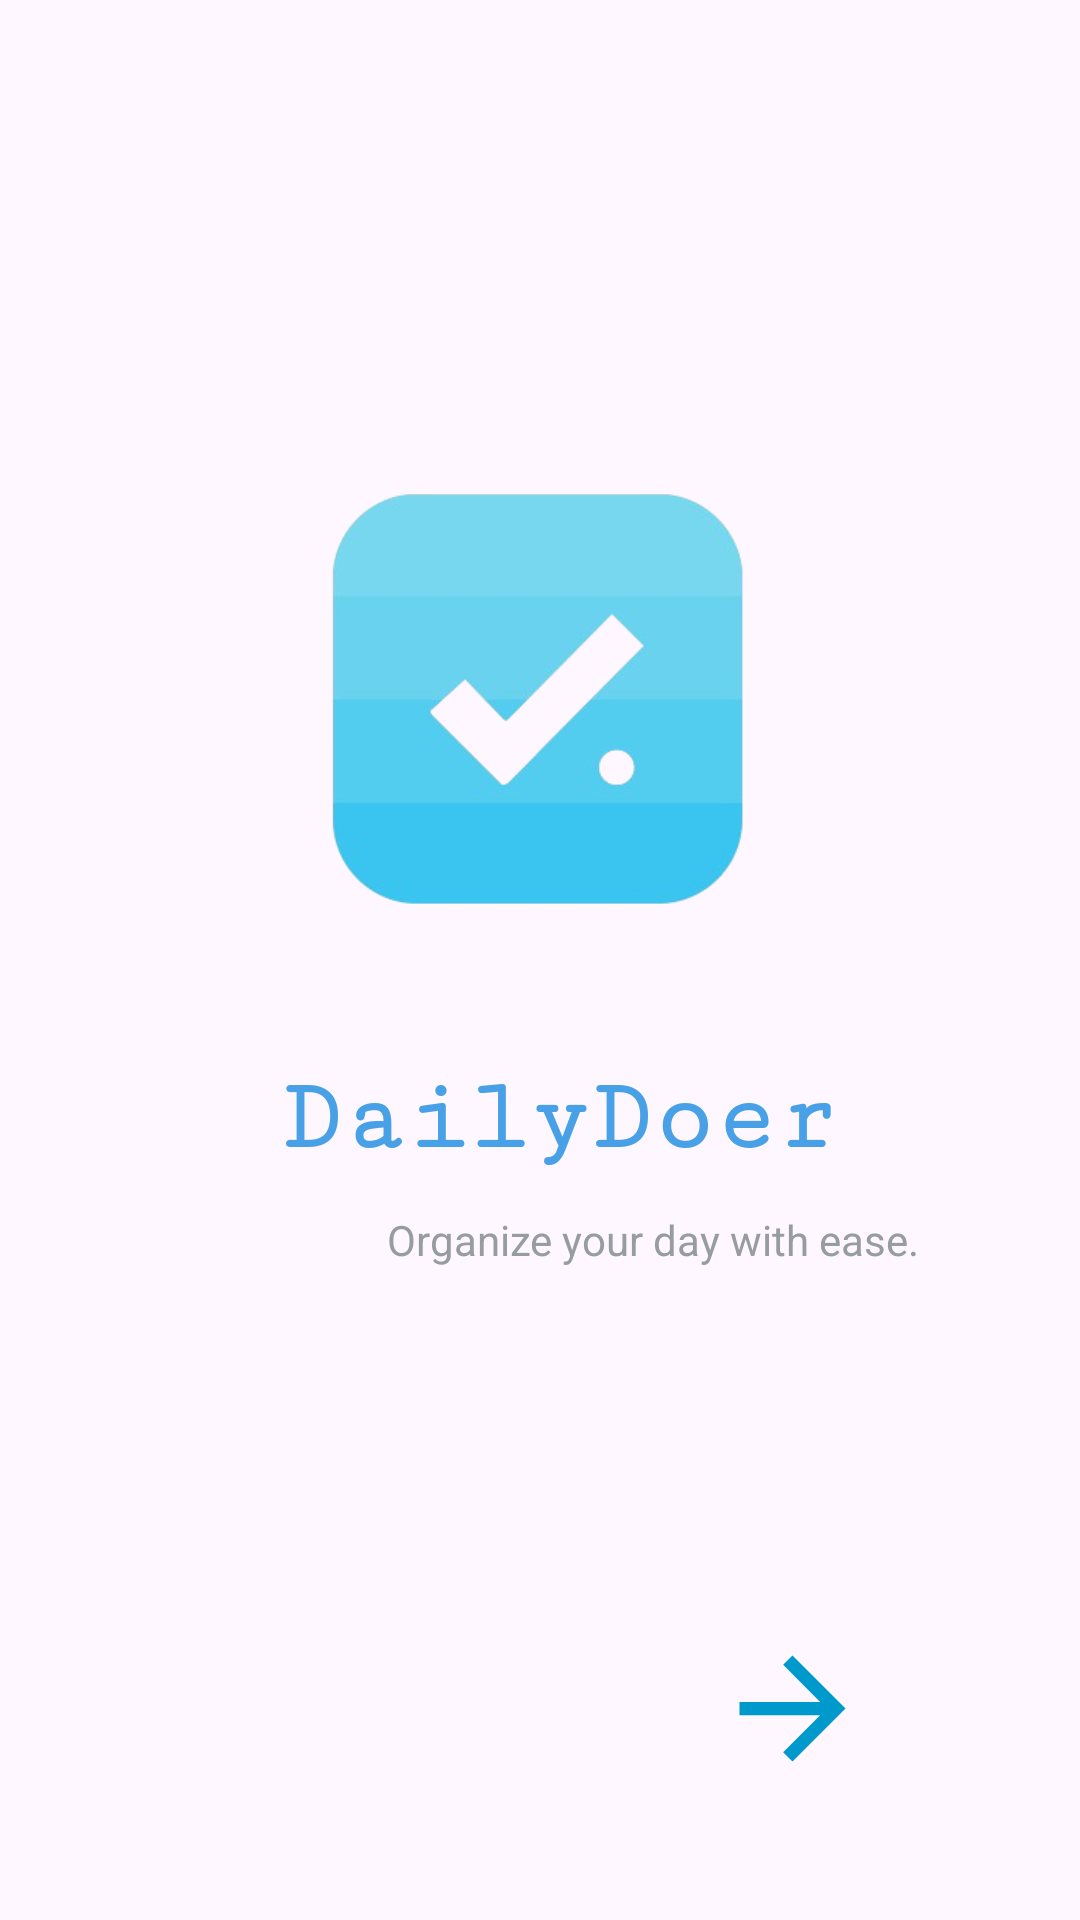

Icon bounding boxes for this 1080*1920 phone screenshot, format (x1, y1, x2, y2):
arrow forward: (739, 1655, 846, 1762)
